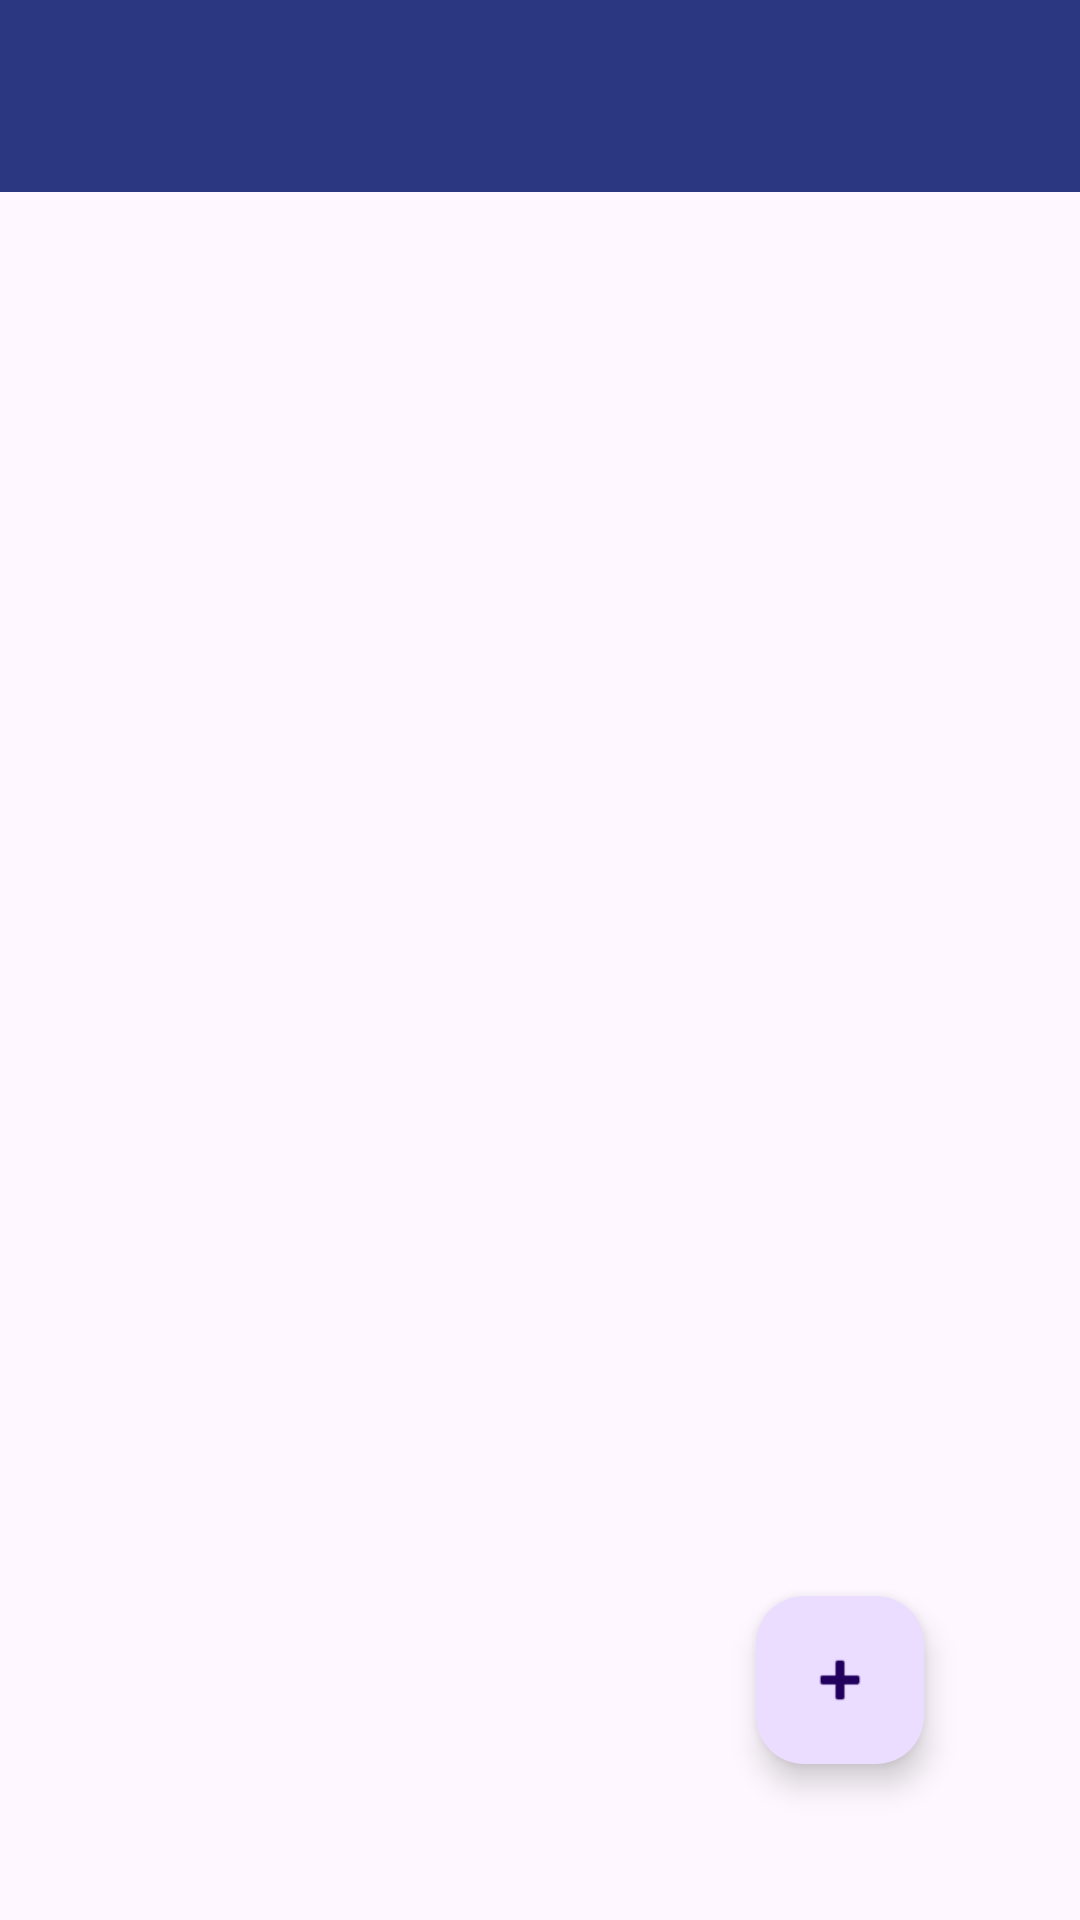

Where icons sit on this 1080×1920 app screen, as bbox=(x1, y1, x2, y2):
add: bbox=(756, 1596, 924, 1764)
